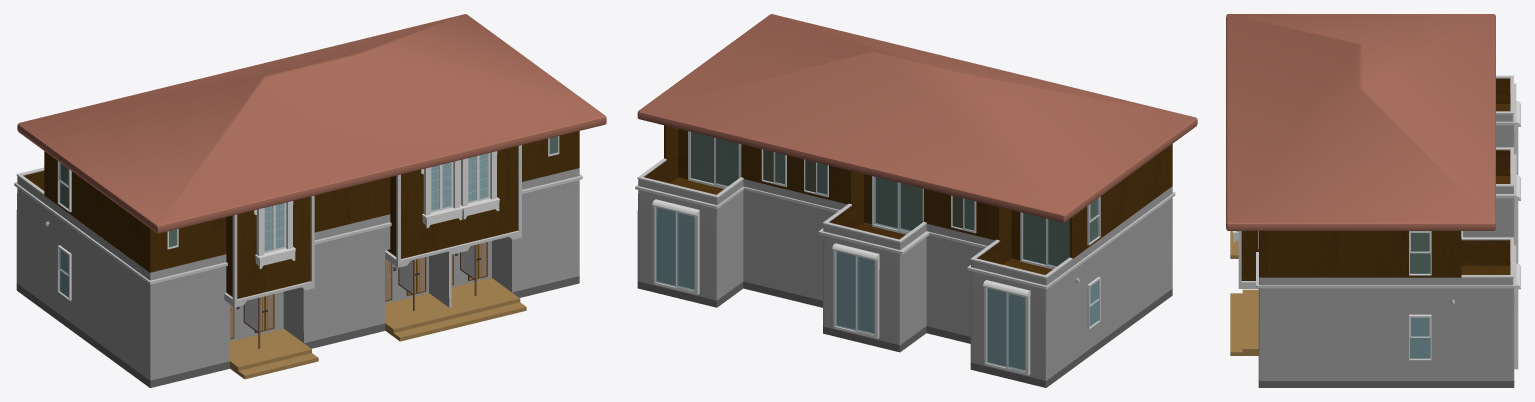
Rendered from House_002_high_snd.fbx.
The picture shows the model from 3 angles, left to right: view 1: azimuth 30°, elevation 25°; view 2: azimuth 150°, elevation 25°; view 3: azimuth 270°, elevation 25°; orthographic projection. The views are drawn at different scales.
Parts seen in each view (by area): view 1: pCube90; view 2: pCube90; view 3: pCube90.
Boxes of the visible parts, x1,y1,x2,y2 form: pCube90: (14,14,606,387); pCube90: (635,14,1197,387); pCube90: (1226,14,1520,387).
Bounding box in the file's own units: 1948 × 955 × 1153.
Materials: 20 (1 with a texture image).
